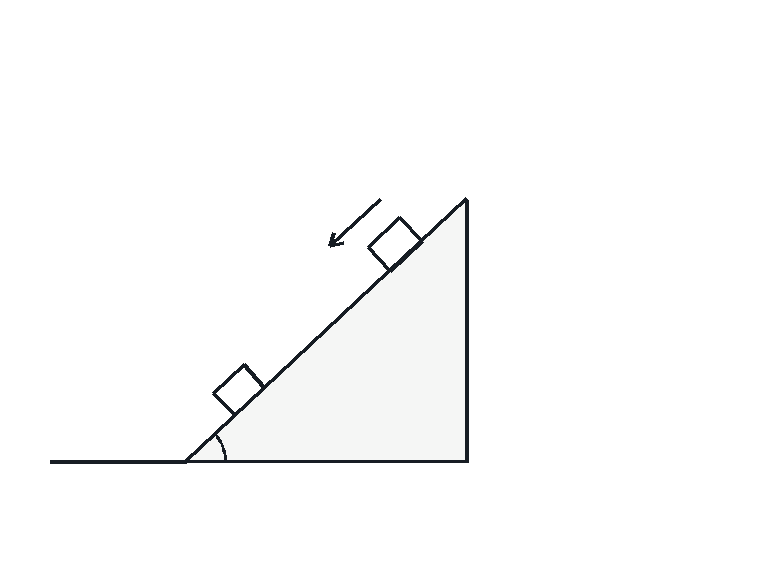block: (365, 215, 423, 273), (211, 362, 267, 417)
ramp: (183, 196, 469, 463)
